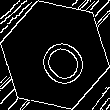O_NW: (23, 22, 87, 88)
